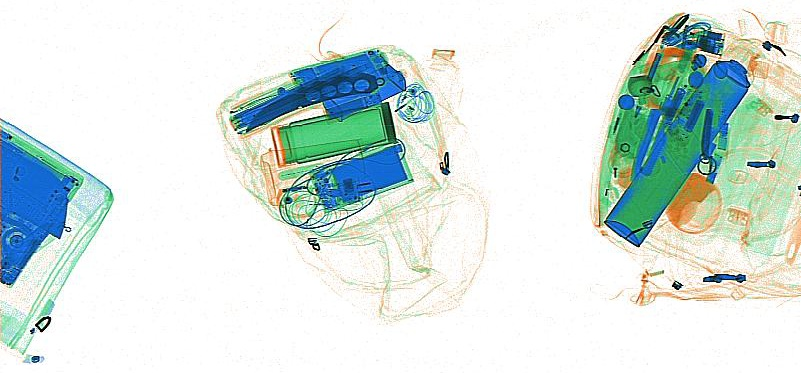knife: (244, 73, 385, 133), (1, 138, 67, 238), (629, 107, 660, 183), (639, 130, 667, 177), (701, 107, 713, 160)
pressure: (602, 59, 750, 246)
zippooil: (319, 62, 405, 122)
